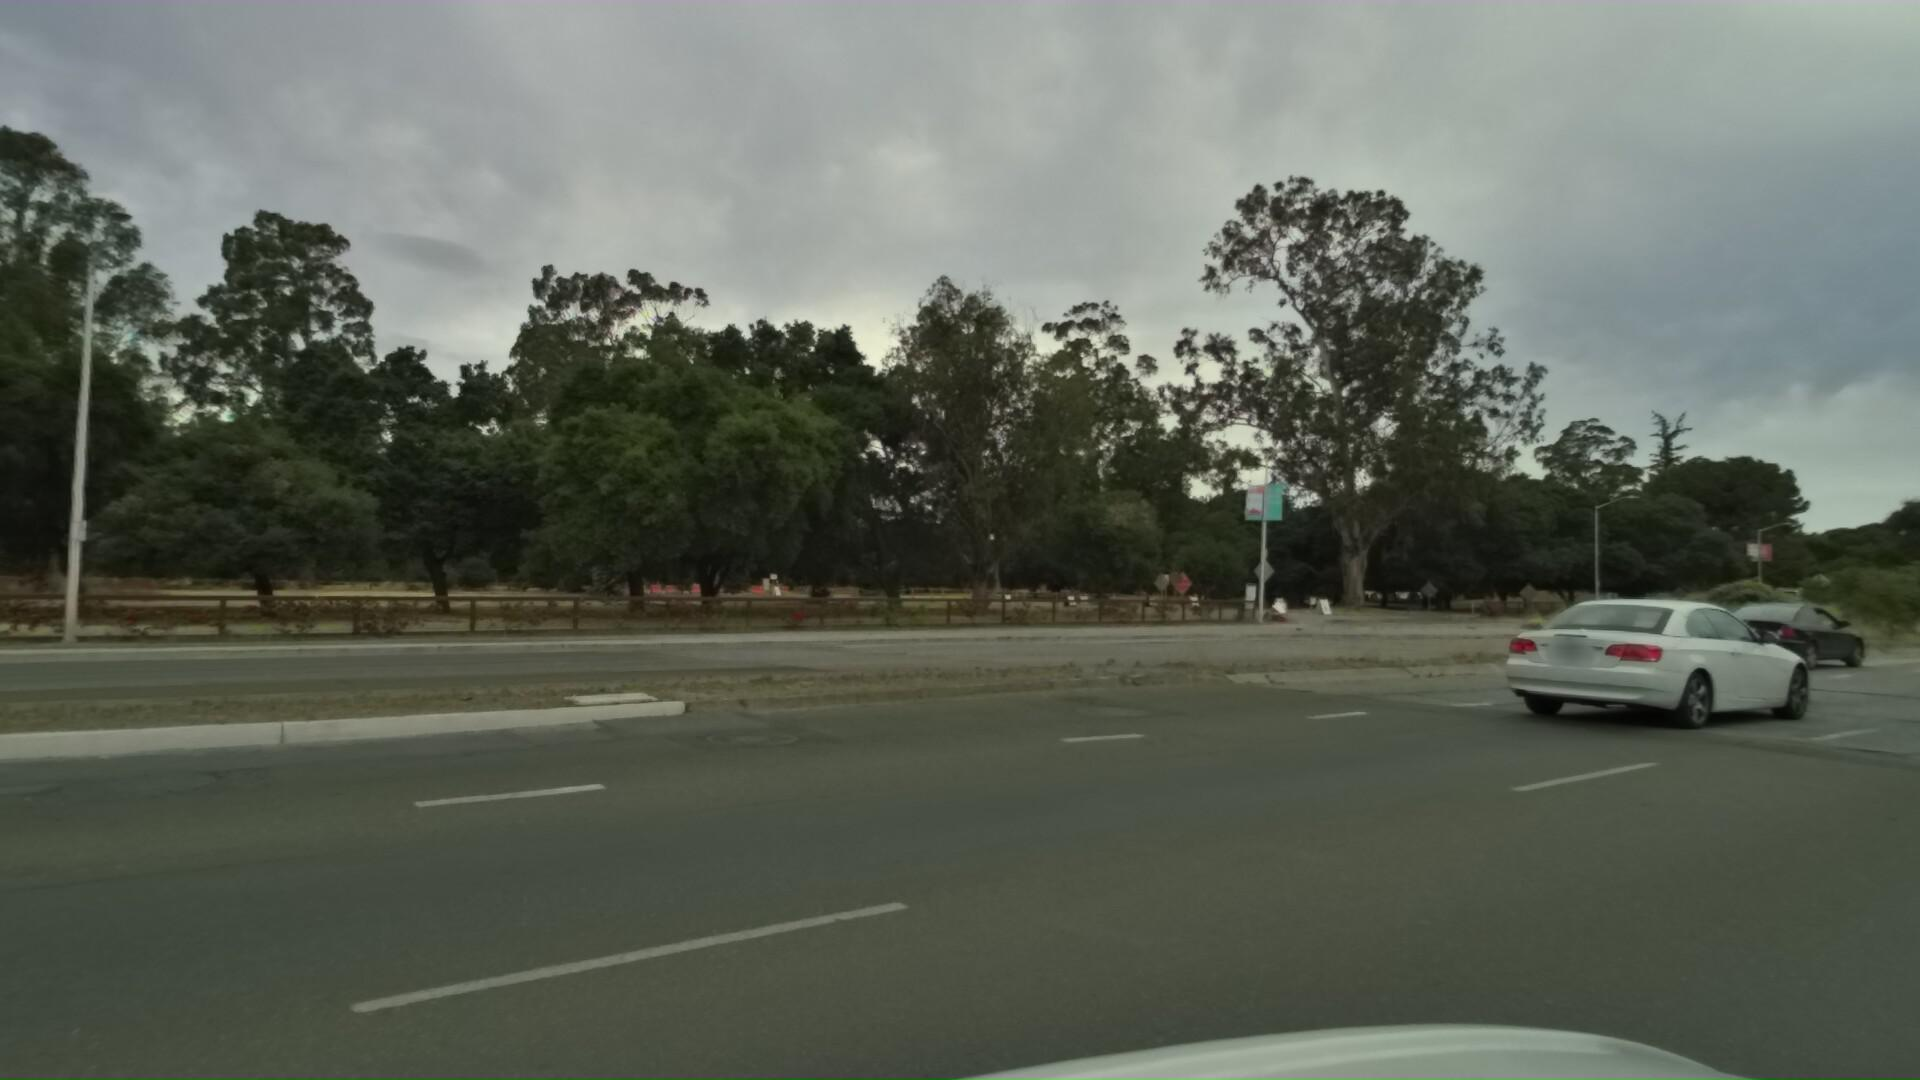car: (1485, 593, 1833, 740), (1692, 593, 1865, 673), (1888, 599, 1920, 641)
